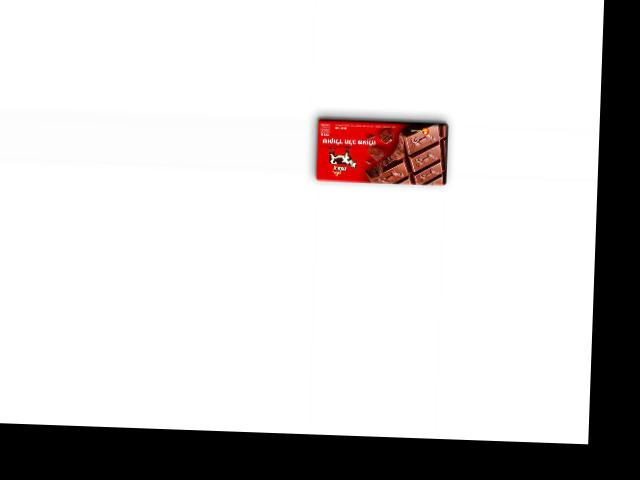chocolate: (312, 113, 451, 188)
